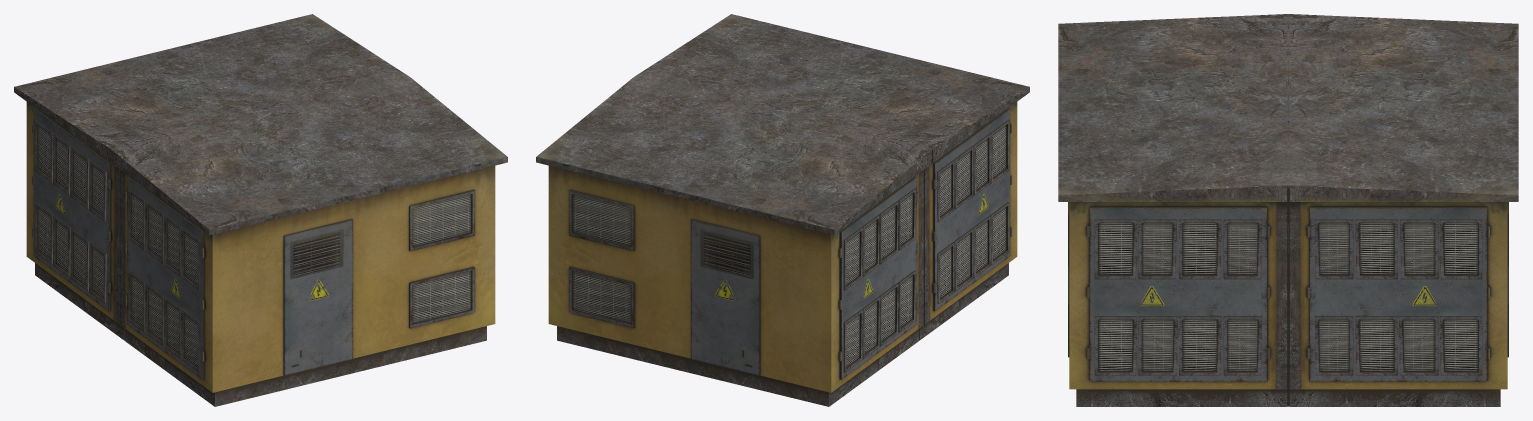
Rendered from transformer_box.fbx.
3 views of the same model, side by side, from view 1: azimuth 30°, elevation 25°; view 2: azimuth 150°, elevation 25°; view 3: azimuth 270°, elevation 25° (orthographic). The views are drawn at different scales.
Visible parts, largest first — view 1: sm_transformer_box; view 2: sm_transformer_box; view 3: sm_transformer_box.
Part boxes in pixels (x1,y1,x2,y2): sm_transformer_box: (14,14,507,406); sm_transformer_box: (536,14,1029,406); sm_transformer_box: (1058,14,1518,406).
Size of the model in its own units: 5.11 by 3.18 by 5.79.
